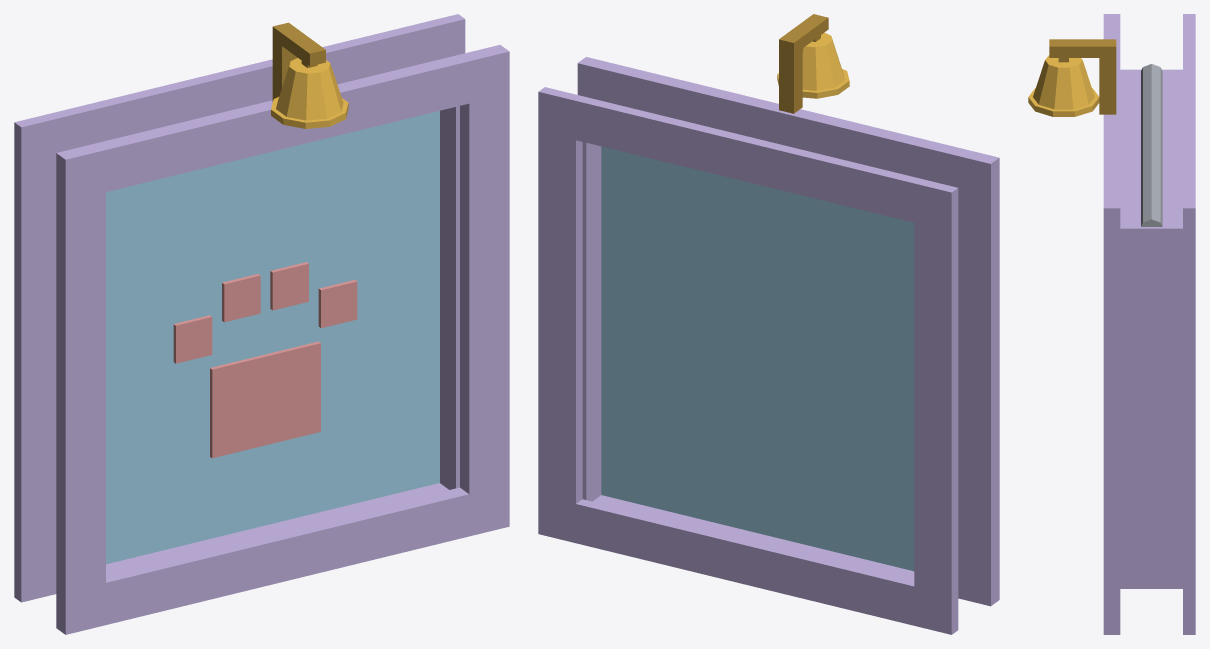
File: CatCafe_CatFlap_Bell.glb
The picture shows the model from 3 angles, left to right: view 1: azimuth 30°, elevation 25°; view 2: azimuth 150°, elevation 25°; view 3: azimuth 270°, elevation 25°; orthographic projection. The views are drawn at different scales.
Parts seen in each view (by area): view 1: CatCafe_CatFlap_Bell, CatCafe_CatFlap_Bell_Flap, CatCafe_CatFlap_Bell_Bell; view 2: CatCafe_CatFlap_Bell, CatCafe_CatFlap_Bell_Flap, CatCafe_CatFlap_Bell_Bell; view 3: CatCafe_CatFlap_Bell, CatCafe_CatFlap_Bell_Flap, CatCafe_CatFlap_Bell_Bell.
Part boxes in pixels (x1=…): CatCafe_CatFlap_Bell: x1=14, y1=14, x2=509, y2=634; CatCafe_CatFlap_Bell_Flap: x1=106, y1=111, x2=439, y2=564; CatCafe_CatFlap_Bell_Bell: x1=271, y1=58, x2=348, y2=128; CatCafe_CatFlap_Bell: x1=538, y1=14, x2=999, y2=634; CatCafe_CatFlap_Bell_Flap: x1=601, y1=146, x2=914, y2=571; CatCafe_CatFlap_Bell_Bell: x1=777, y1=32, x2=849, y2=98; CatCafe_CatFlap_Bell: x1=1049, y1=14, x2=1195, y2=634; CatCafe_CatFlap_Bell_Flap: x1=1141, y1=64, x2=1162, y2=226; CatCafe_CatFlap_Bell_Bell: x1=1028, y1=55, x2=1099, y2=116.
Size of the model in its own units: 2.2 by 2.61 by 0.8.
Materials: 1 (1 with a texture image).
